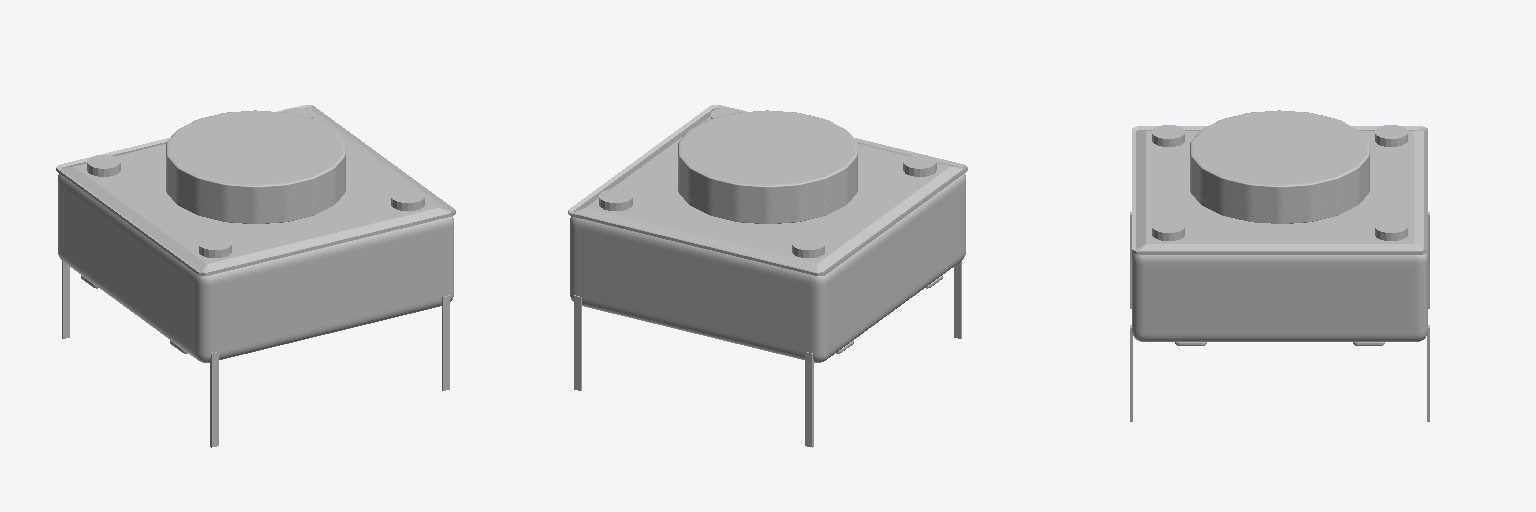
File: uploads_files_763716_button.obj
3 renders of one model, left to right at view 1: azimuth 30°, elevation 25°; view 2: azimuth 150°, elevation 25°; view 3: azimuth 270°, elevation 25°, orthographic.
Parts seen in each view (by area): view 1: Box001, Box002, Cylinder001, Box013, Box014, Cylinder002, Cylinder004, Cylinder005, Box016; view 2: Box001, Box002, Cylinder001, Box016, Box015, Cylinder005, Cylinder003, Cylinder002, Box013; view 3: Box001, Box002, Cylinder001, Cylinder002, Cylinder003, Cylinder004, Cylinder005.
Boxes of the visible parts, <box> form: Box001: <box>58,173,453,362</box>; Box002: <box>56,105,455,275</box>; Cylinder001: <box>166,110,345,223</box>; Box013: <box>210,352,218,447</box>; Box014: <box>442,295,449,390</box>; Cylinder002: <box>87,155,120,176</box>; Cylinder004: <box>391,189,424,210</box>; Cylinder005: <box>199,236,231,257</box>; Box016: <box>62,261,69,338</box>; Box001: <box>570,173,965,362</box>; Box002: <box>568,105,967,275</box>; Cylinder001: <box>678,110,857,223</box>; Box016: <box>805,352,813,447</box>; Box015: <box>574,295,581,390</box>; Cylinder005: <box>903,155,936,176</box>; Cylinder003: <box>599,189,632,210</box>; Cylinder002: <box>792,236,824,257</box>; Box013: <box>954,261,961,338</box>; Box001: <box>1132,253,1427,341</box>; Box002: <box>1132,126,1427,254</box>; Cylinder001: <box>1190,110,1369,223</box>; Cylinder002: <box>1375,125,1407,146</box>; Cylinder003: <box>1375,219,1407,240</box>; Cylinder004: <box>1152,219,1184,240</box>; Cylinder005: <box>1152,125,1184,146</box>.
Size of the model in its own units: 20 by 16.05 by 20.16.